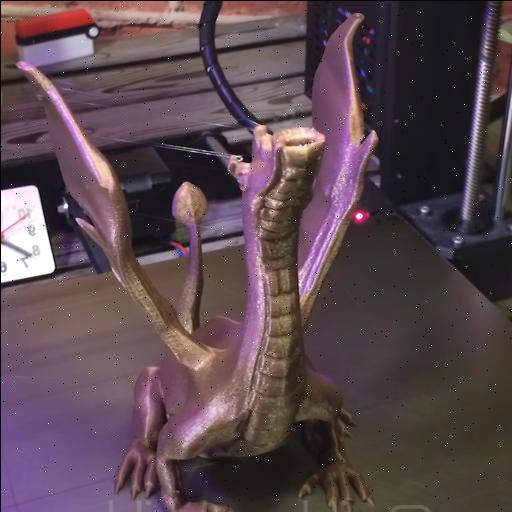stringing: (58, 83, 270, 167)
